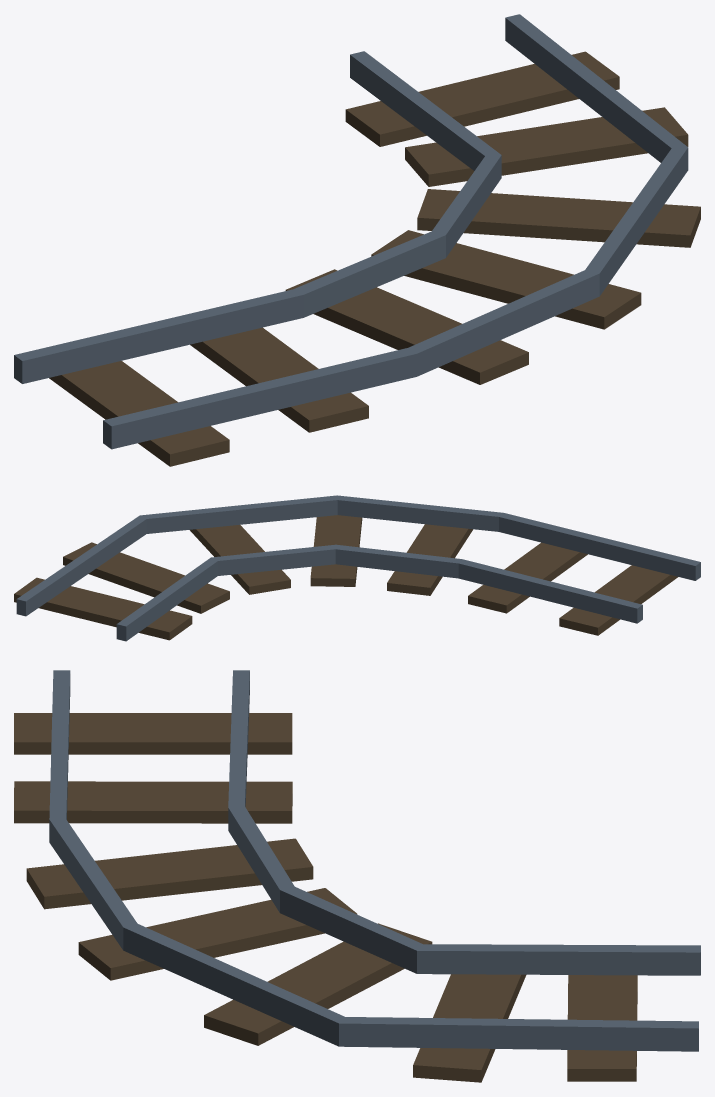
File: Rail-E03.fbx
The picture shows the model from 3 angles, top to bottom: view 1: azimuth 30°, elevation 25°; view 2: azimuth 150°, elevation 25°; view 3: azimuth 270°, elevation 25°; orthographic projection. The views are drawn at different scales.
Parts seen in each view (by area): view 1: Rail-E03; view 2: Rail-E03; view 3: Rail-E03.
Part boxes in pixels (<box>): Rail-E03: <box>14,14,700,466</box>; Rail-E03: <box>14,495,700,641</box>; Rail-E03: <box>14,670,700,1082</box>.
Bounding box in the file's own units: 629 × 28.05 × 485.
